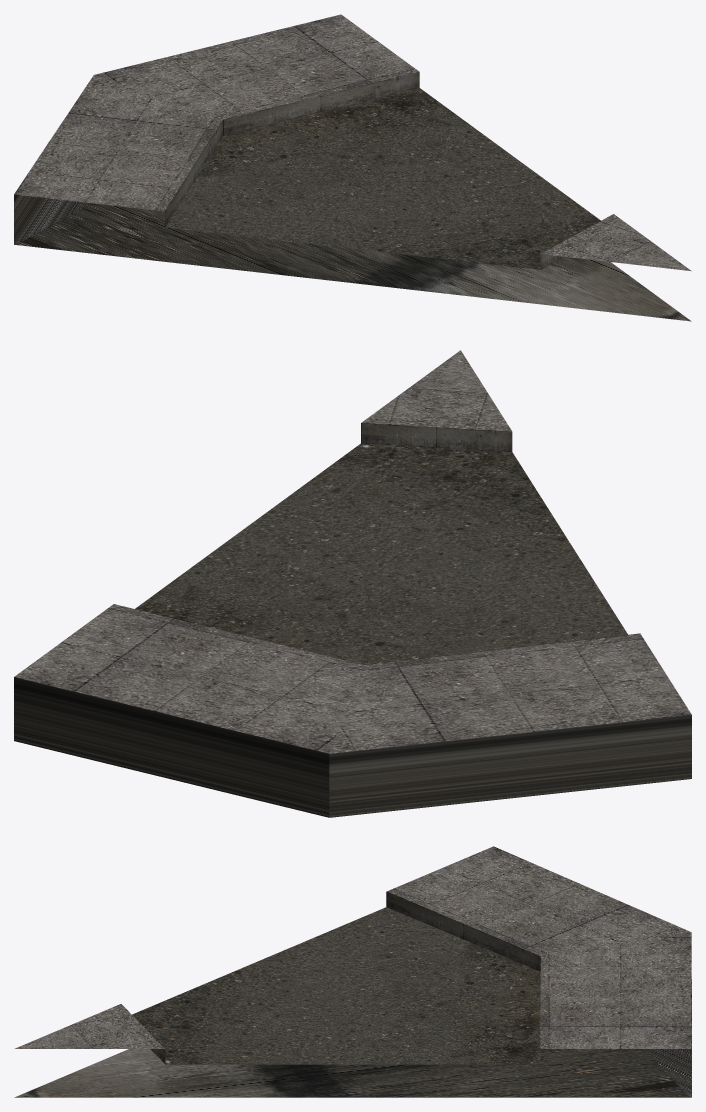
File: RoadCurve01.fbx
3 views of the same model, one above another, from view 1: azimuth 30°, elevation 25°; view 2: azimuth 150°, elevation 25°; view 3: azimuth 270°, elevation 25° (orthographic). The views are drawn at different scales.
Visible parts, largest first — view 1: Curve; view 2: Curve; view 3: Curve.
Boxes of the visible parts, x1,y1,x2,y2 form: Curve: (14, 14, 691, 321); Curve: (14, 350, 691, 817); Curve: (14, 846, 691, 1097).
Size of the model in its own units: 336 by 37.59 by 475.
2 materials, 2 textured.
